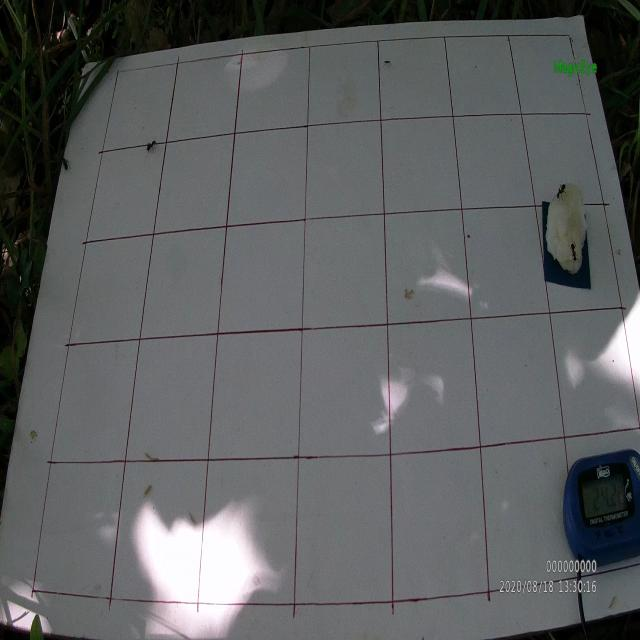Ant: (567, 236, 578, 264), (145, 136, 157, 158), (553, 183, 566, 202), (60, 155, 71, 175)
